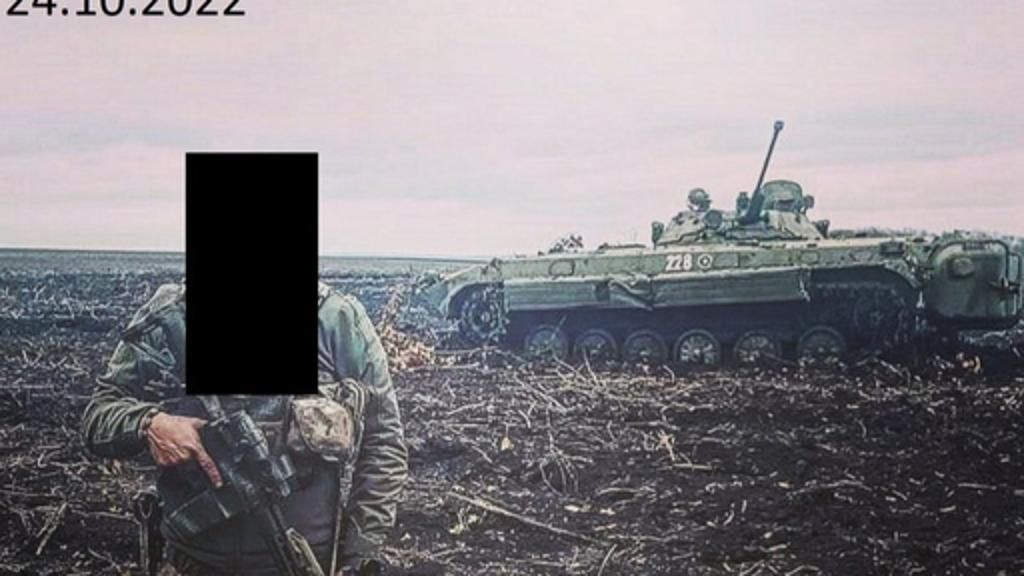APC-IFV: (388, 104, 1008, 376)
